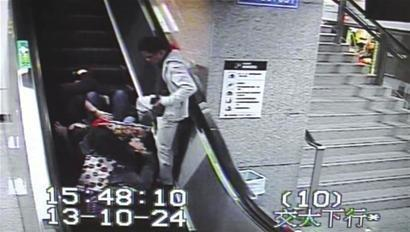Fall-Detected: (47, 82, 157, 195)
